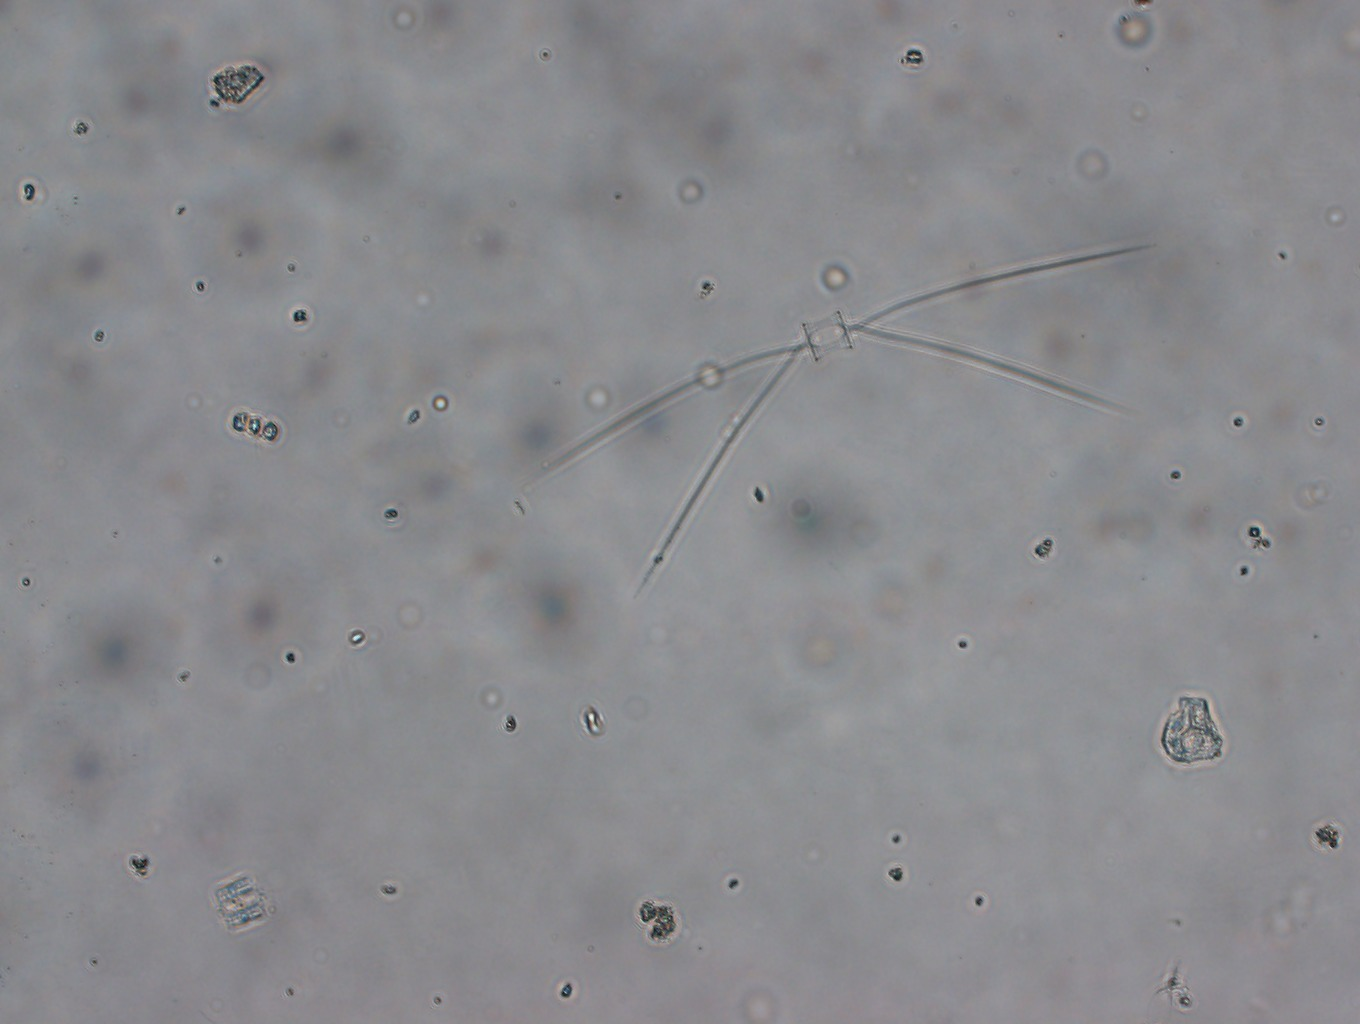chaetoceros: (534, 242, 1179, 596)
